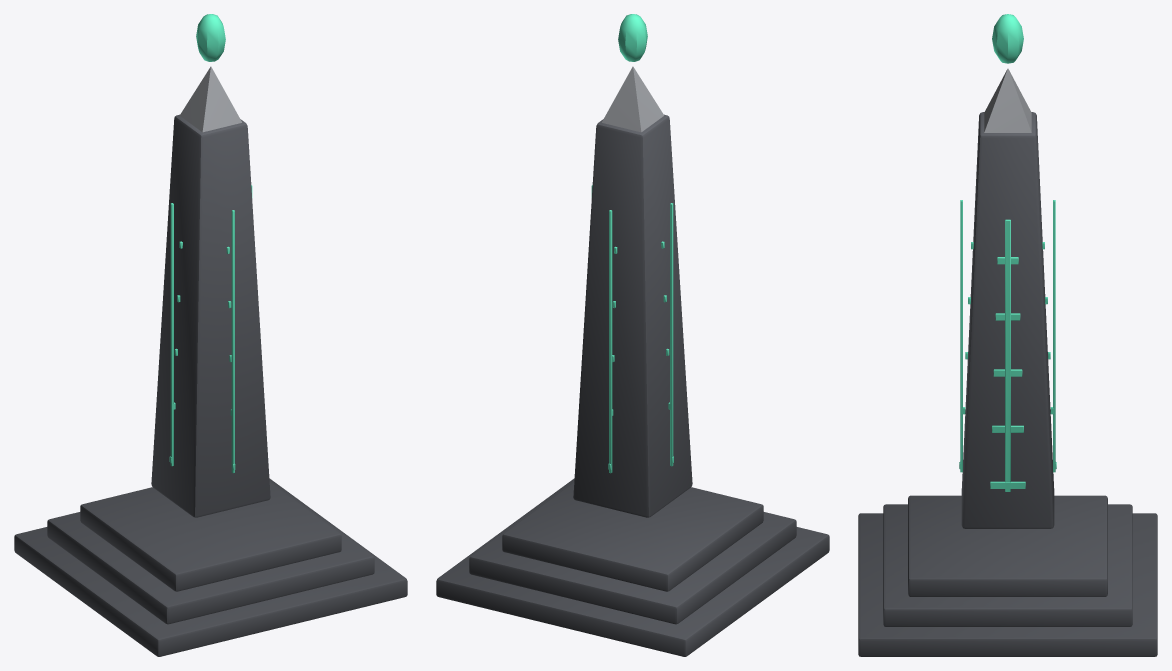
File: obelisk.glb
3 renders of one model, left to right at view 1: azimuth 30°, elevation 25°; view 2: azimuth 150°, elevation 25°; view 3: azimuth 270°, elevation 25°, orthographic. The views are drawn at different scales.
Visible parts, largest first — view 1: obelisk; view 2: obelisk; view 3: obelisk.
Part boxes in pixels (bbox=[...]): obelisk: bbox=[14, 14, 407, 656]; obelisk: bbox=[436, 14, 829, 656]; obelisk: bbox=[858, 14, 1157, 656].
Bounding box in the file's own units: 4.2 × 8.98 × 4.2.
